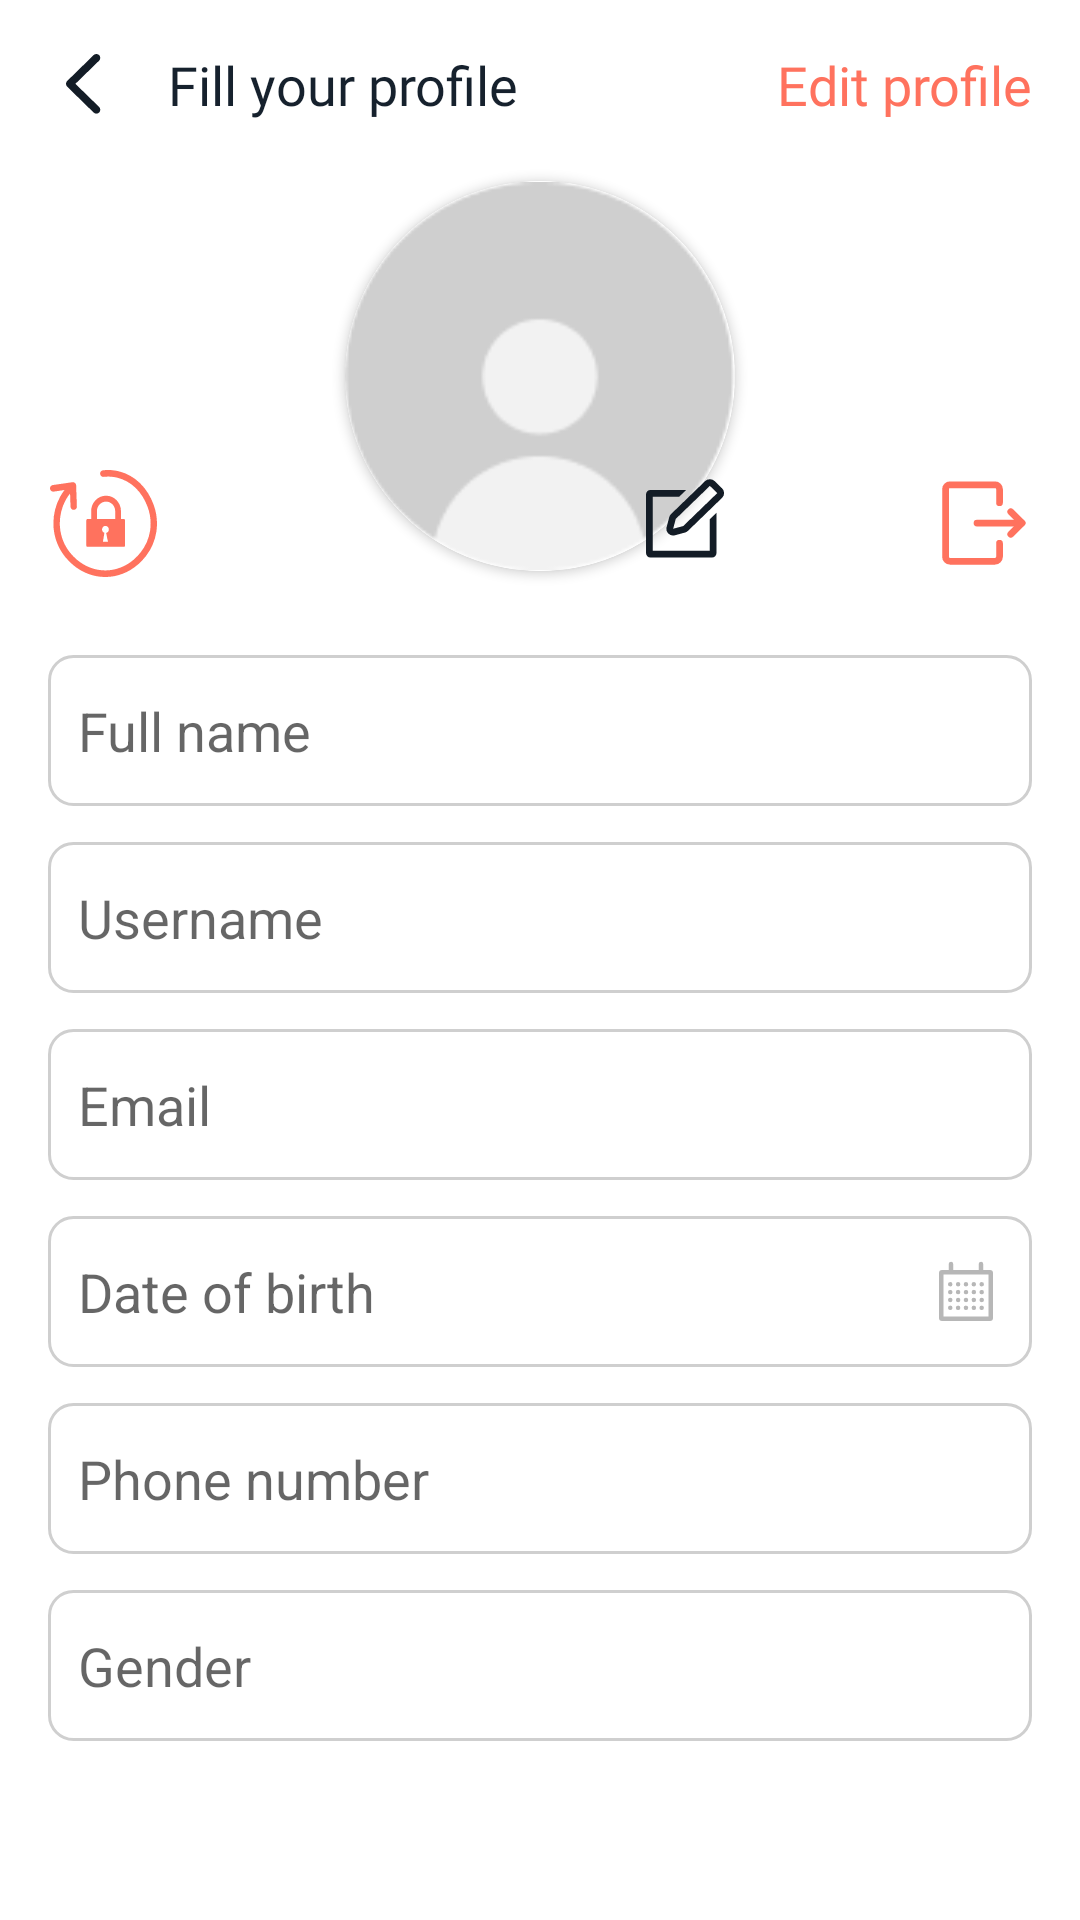

Screen size 1080w x 1920h. Icon name, then its center in pixels as (x=x, y=y):
back: (x=83, y=84)
change password: (x=103, y=523)
log out: (x=984, y=523)
